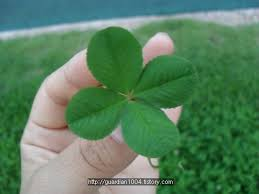4-clover: (63, 27, 191, 156)
